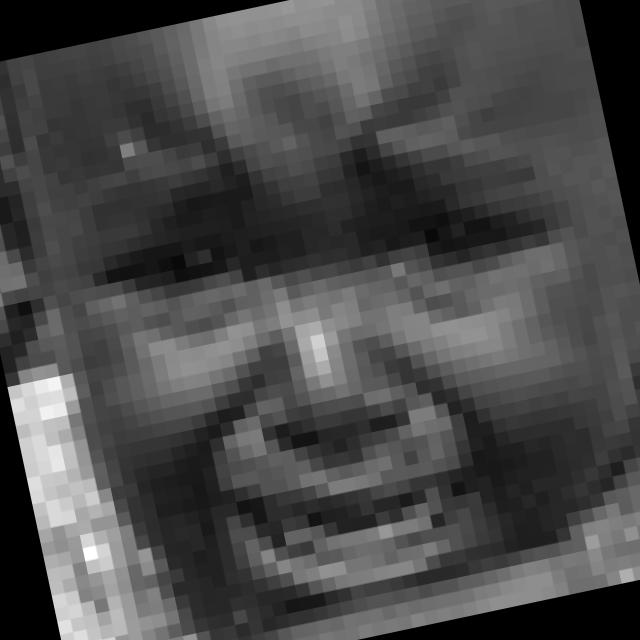sad: (36, 23, 631, 632)
